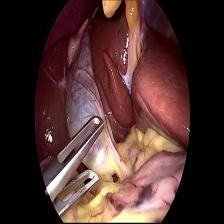Grasper: (41, 111, 109, 219)
